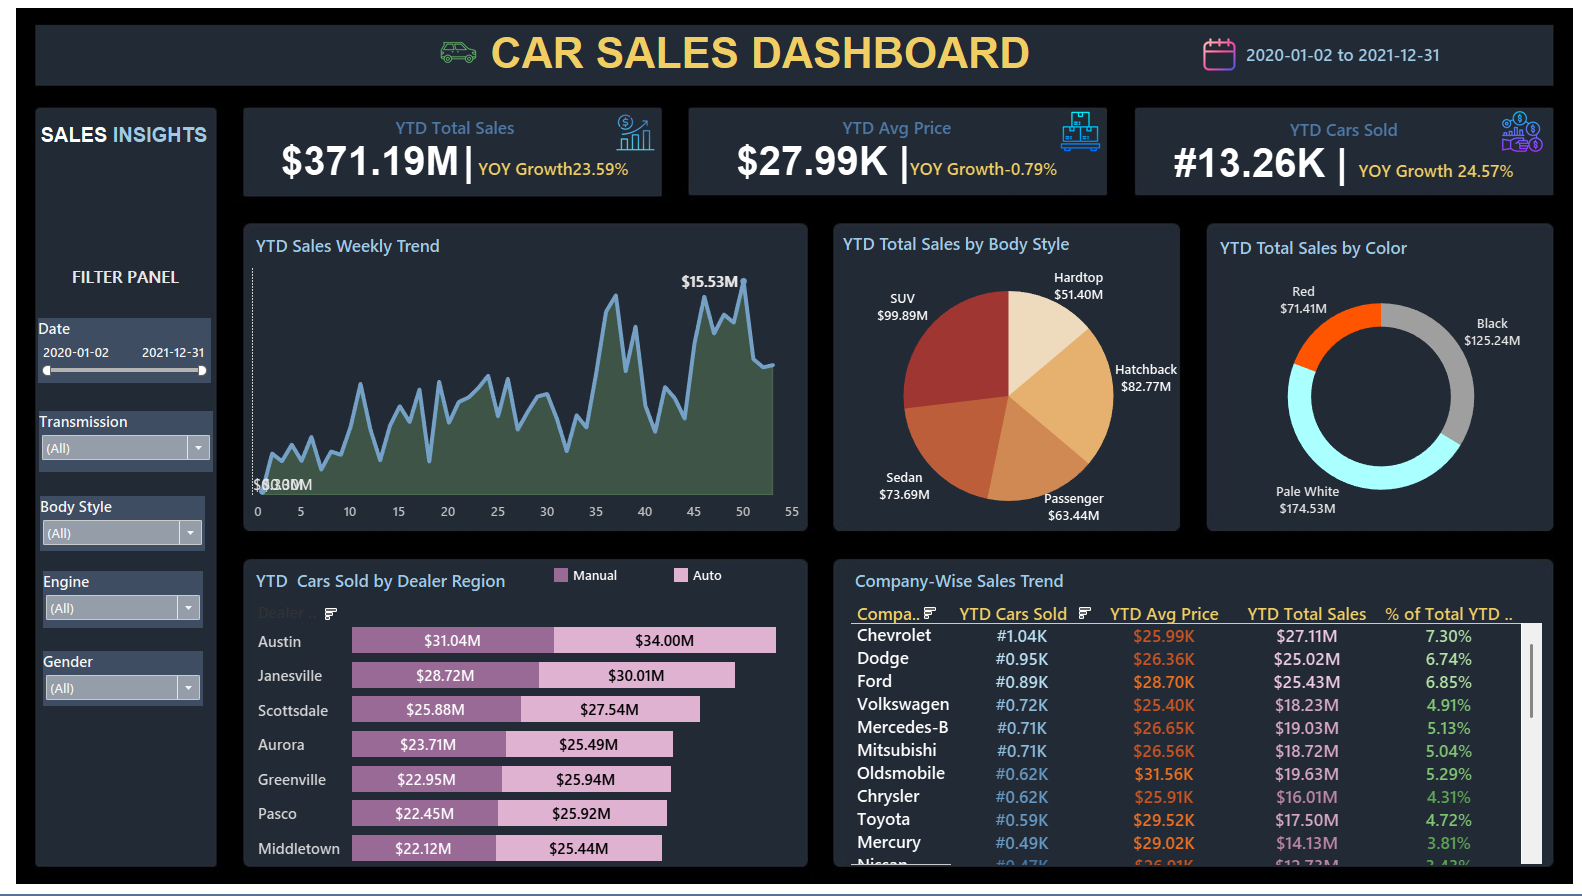

The dashboard page shown, as its layout file describes it:
{"tool":"tableau","page":{"name":"Dashboard 1","canvas":[1600,900],"ordinal":0},"visuals":[{"type":"image","param":"C:/Users/Owner/Documents/Tableau/Car Sales Background.jpg","box":[8,8,1584,884]},{"type":"text","box":[491,14,549,87]},{"type":"image","param":"C:/Users/Owner/Documents/Tableau/car sale images/Car Icon.png","box":[440,35,47,42]},{"type":"worksheet","title":"Date Range","mark":"Automatic","box":[1144,36,407,43]},{"type":"image","param":"C:/Users/Owner/Documents/Tableau/car sale images/calendar.png","box":[1205,40,39,36]},{"type":"worksheet","title":"YTD Total Sales","mark":"Automatic","box":[267,113,386,82]},{"type":"image","param":"C:/Users/Owner/Documents/Tableau/car sale images/Avg Price Icon.png","box":[1062,114,47,42]},{"type":"image","param":"C:/Users/Owner/Documents/Tableau/car sale images/Cars Sold Icon.png","box":[1504,114,47,42]},{"type":"image","param":"C:/Users/Owner/Documents/Tableau/car sale images/Sales Icon.png","box":[617,115,47,42]},{"type":"worksheet","title":"YTD Cars Sold","mark":"Automatic","box":[1145,116,408,80]},{"type":"worksheet","title":"YTD Avg Price","mark":"Automatic","box":[699,118,406,72]},{"type":"text","box":[42,124,174,30]},{"type":"worksheet","title":"YTD Total Sales by Body Style","mark":"Pie","box":[844,232,339,298]},{"type":"worksheet","title":"YTD Sales Weekly Trend","mark":"Area","rows":["Calculation_195343647511896064","Calculation_195343647511896064"],"cols":["Date"],"box":[257,234,550,295]},{"type":"worksheet","title":"YTD Total Sales by Color","mark":"Pie","rows":["Calculation_2183964358332534788","Calculation_2183964358332583942"],"box":[1221,236,330,291]},{"type":"text","box":[43,265,174,30]},{"type":"filter","title":"YTD Sales Weekly Trend","param":"[federated.1xtf91h0xonxq614av81c1bimzzd].[none:Date:qk]","box":[43,322,173,65]},{"type":"filter","title":"YTD Sales Weekly Trend","param":"[federated.1xtf91h0xonxq614av81c1bimzzd].[none:Transmission:nk]","box":[44,415,174,61]},{"type":"filter","title":"YTD Sales Weekly Trend","param":"[federated.1xtf91h0xonxq614av81c1bimzzd].[none:Body Style:nk]","box":[45,500,165,55]},{"type":"worksheet","title":"YTD  Cars Sold by Dealer Region","mark":"Automatic","rows":["Dealer_Region"],"cols":["Calculation_195343647511896064"],"box":[257,569,545,300]},{"type":"legend","title":"YTD  Cars Sold by Dealer Region","param":"[federated.1xtf91h0xonxq614av81c1bimzzd].[none:Transmission:nk]","box":[556,569,258,31]},{"type":"worksheet","title":"Company-Wise Sales Trend","mark":"Automatic","rows":["Company"],"box":[856,569,691,300]},{"type":"filter","title":"YTD Sales Weekly Trend","param":"[federated.1xtf91h0xonxq614av81c1bimzzd].[none:Engine:nk]","box":[48,575,160,57]},{"type":"filter","title":"YTD Sales Weekly Trend","param":"[federated.1xtf91h0xonxq614av81c1bimzzd].[none:Gender:nk]","box":[48,655,160,55]}]}

Visuals, with their boxes in screenshot pixels (x1, y1, x2, y2), scaled from the page's 1600x900 canvas onto the 1582x896 screenshot:
image: locate(8, 8, 1574, 888)
text: locate(485, 14, 1028, 101)
image: locate(435, 35, 482, 77)
"Date Range" worksheet: locate(1131, 36, 1534, 79)
image: locate(1191, 40, 1230, 76)
"YTD Total Sales" worksheet: locate(264, 112, 646, 194)
image: locate(1050, 113, 1097, 155)
image: locate(1487, 113, 1534, 155)
image: locate(610, 114, 657, 156)
"YTD Cars Sold" worksheet: locate(1132, 115, 1536, 195)
"YTD Avg Price" worksheet: locate(691, 117, 1093, 189)
text: locate(42, 123, 214, 153)
"YTD Total Sales by Body Style" worksheet (Pie marks): locate(835, 231, 1170, 528)
"YTD Sales Weekly Trend" worksheet (Area marks): locate(254, 233, 798, 527)
"YTD Total Sales by Color" worksheet (Pie marks): locate(1207, 235, 1534, 525)
text: locate(43, 264, 215, 294)
"YTD Sales Weekly Trend" filter: locate(43, 321, 214, 385)
"YTD Sales Weekly Trend" filter: locate(44, 413, 216, 474)
"YTD Sales Weekly Trend" filter: locate(44, 498, 208, 553)
"YTD  Cars Sold by Dealer Region" worksheet: locate(254, 566, 793, 865)
"YTD  Cars Sold by Dealer Region" legend: locate(550, 566, 805, 597)
"Company-Wise Sales Trend" worksheet: locate(846, 566, 1530, 865)
"YTD Sales Weekly Trend" filter: locate(47, 572, 206, 629)
"YTD Sales Weekly Trend" filter: locate(47, 652, 206, 707)
